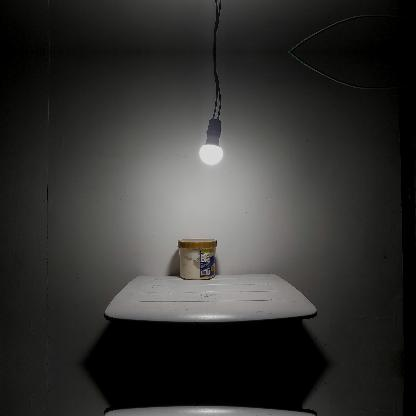Lady-s-Choice: (177, 238, 217, 280)
